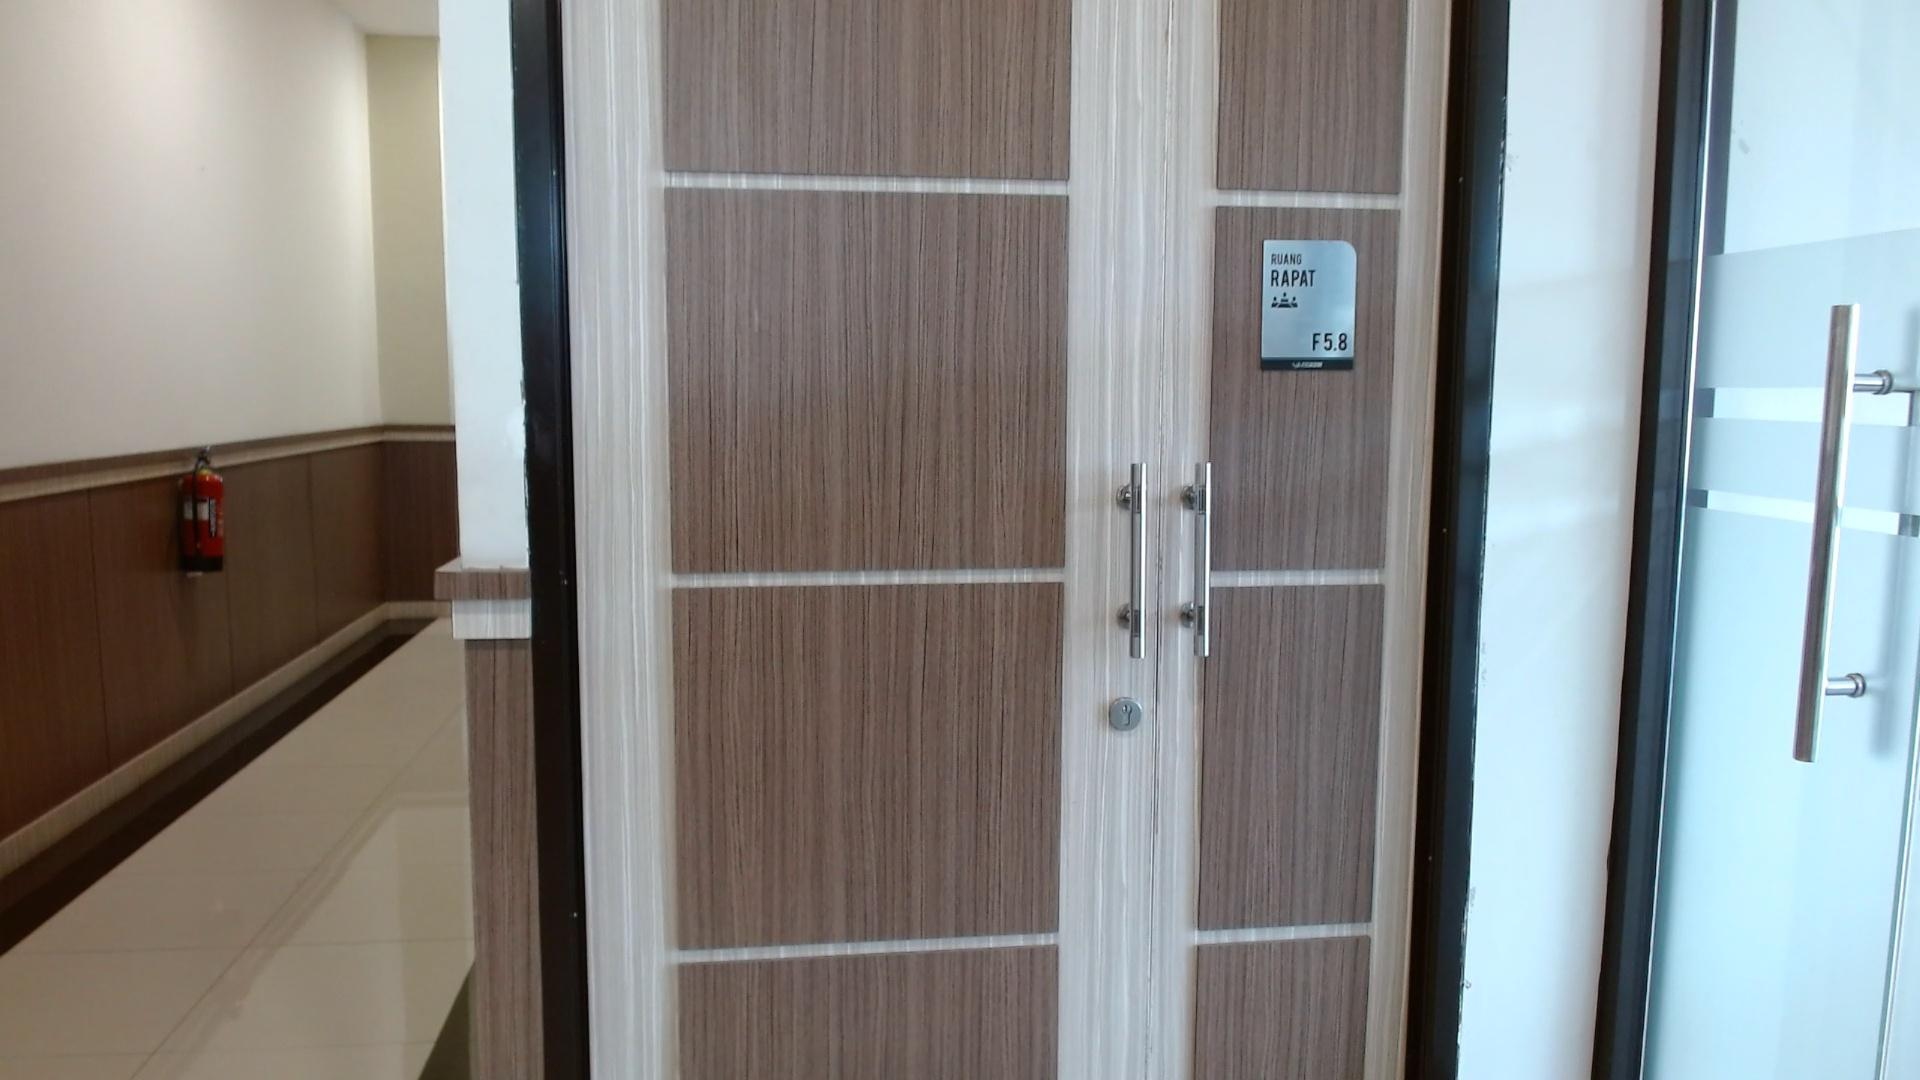plate: (1261, 240, 1358, 371)
